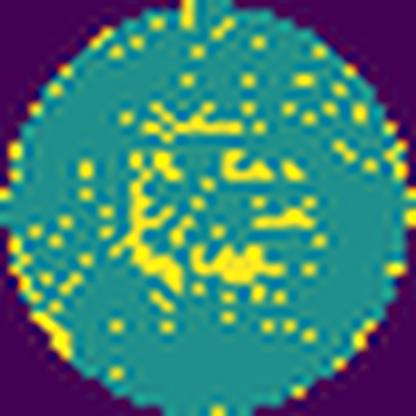Donut: (98, 82, 329, 312)
